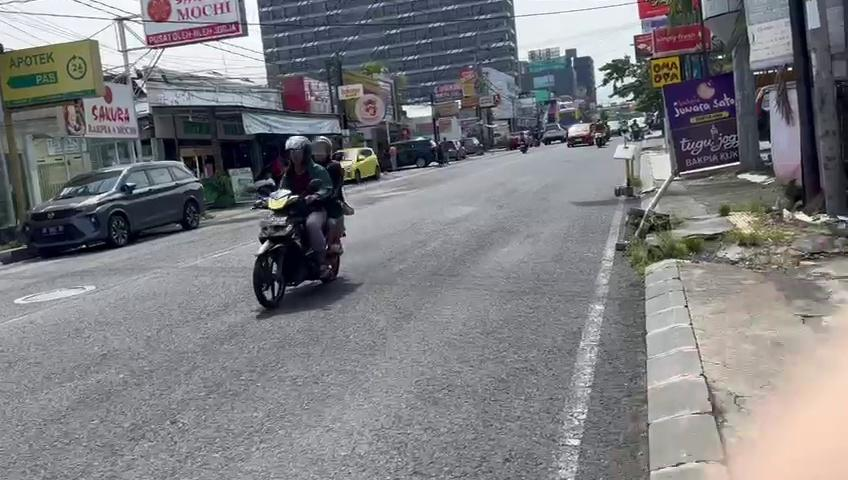helm: (311, 133, 336, 169), (285, 133, 311, 167)
riding: (245, 131, 358, 317)
